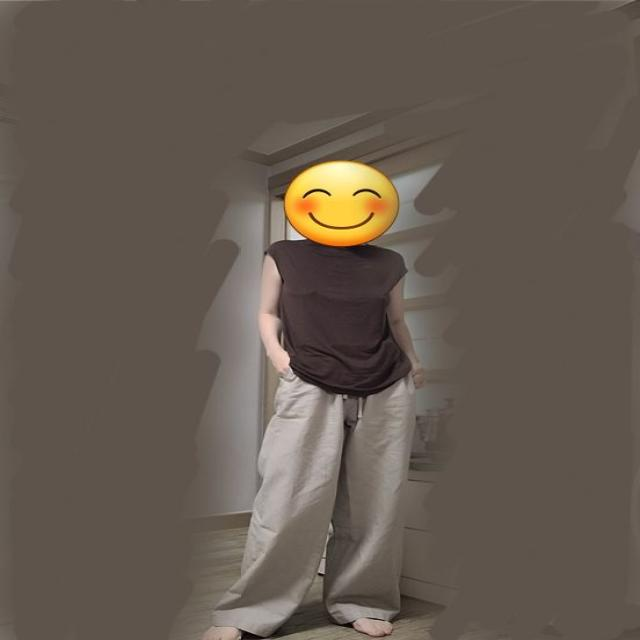cottonpants: (213, 359, 414, 636)
shortsleeve: (265, 237, 413, 399)
